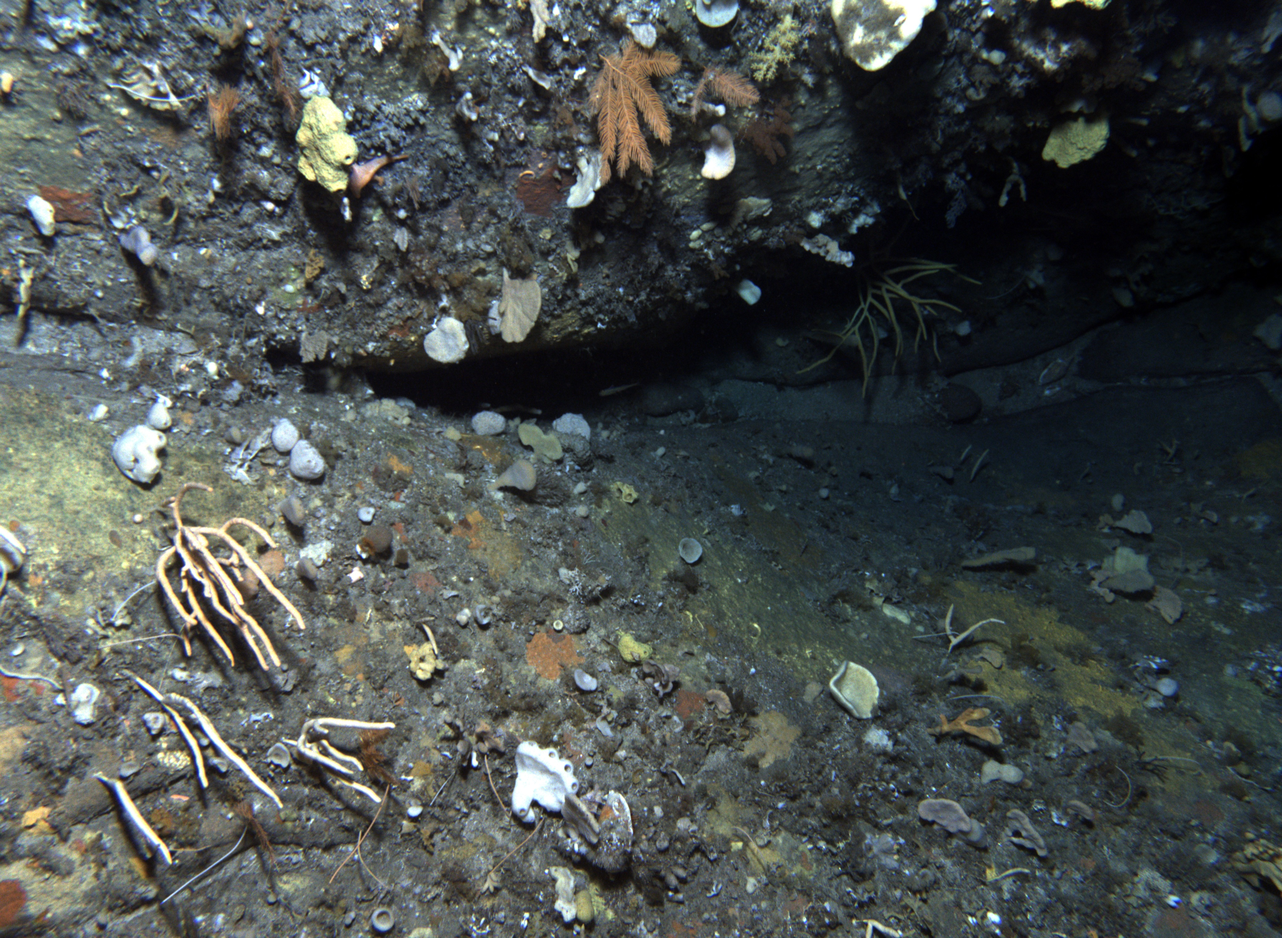Brachionichthyidae: (346, 152, 411, 200)
